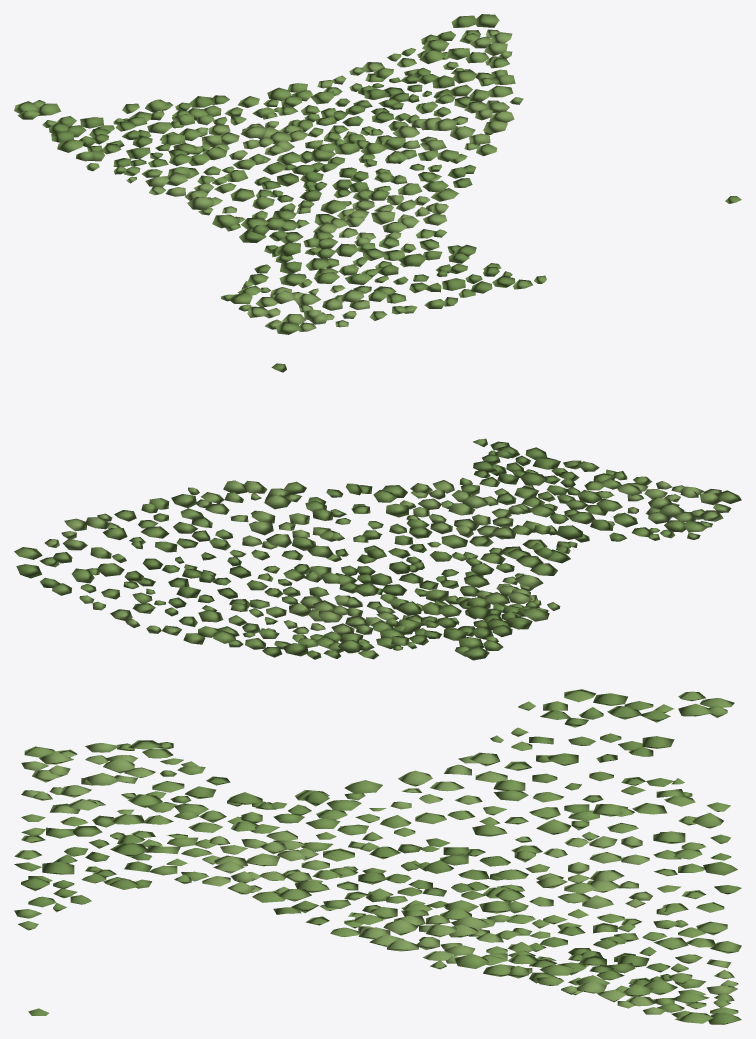
File: canopy-1--5--4.glb
3 renders of one model, top to bottom at view 1: azimuth 30°, elevation 25°; view 2: azimuth 150°, elevation 25°; view 3: azimuth 270°, elevation 25°, orthographic. The views are drawn at different scales.
Bounding box in the file's own units: 520 × 62.5 × 512.
1 material, 1 textured.
